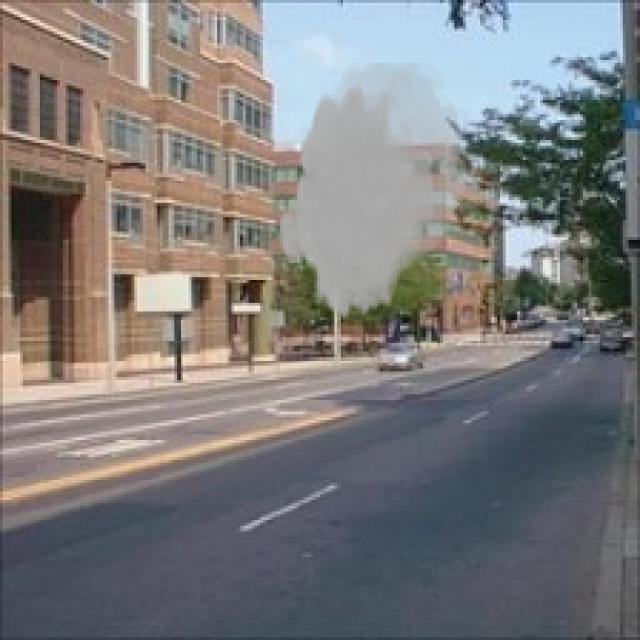Smoke: (277, 63, 477, 323)
